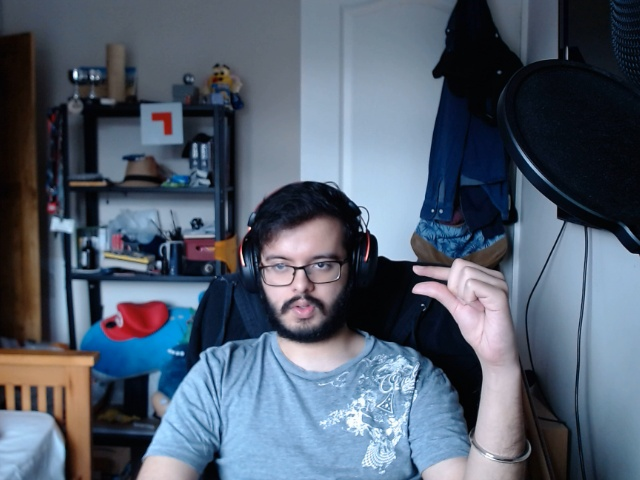Small: (413, 246, 525, 347)
